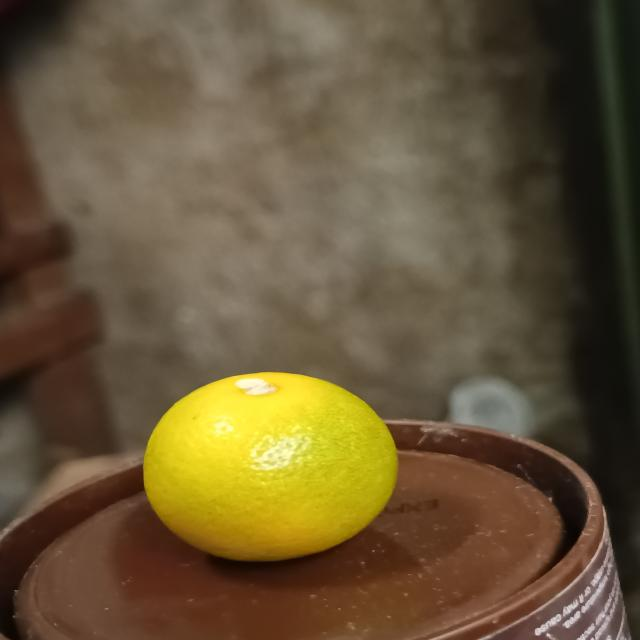greening: (140, 369, 404, 566)
